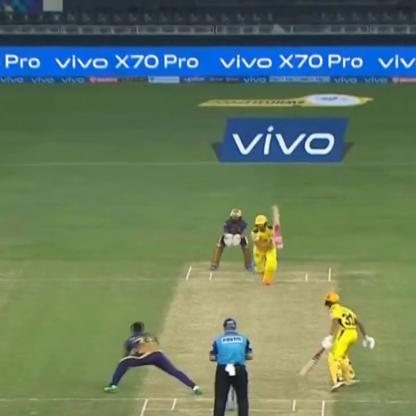bat: (293, 340, 326, 382), (267, 202, 283, 242)
pitch: (132, 252, 341, 416)
